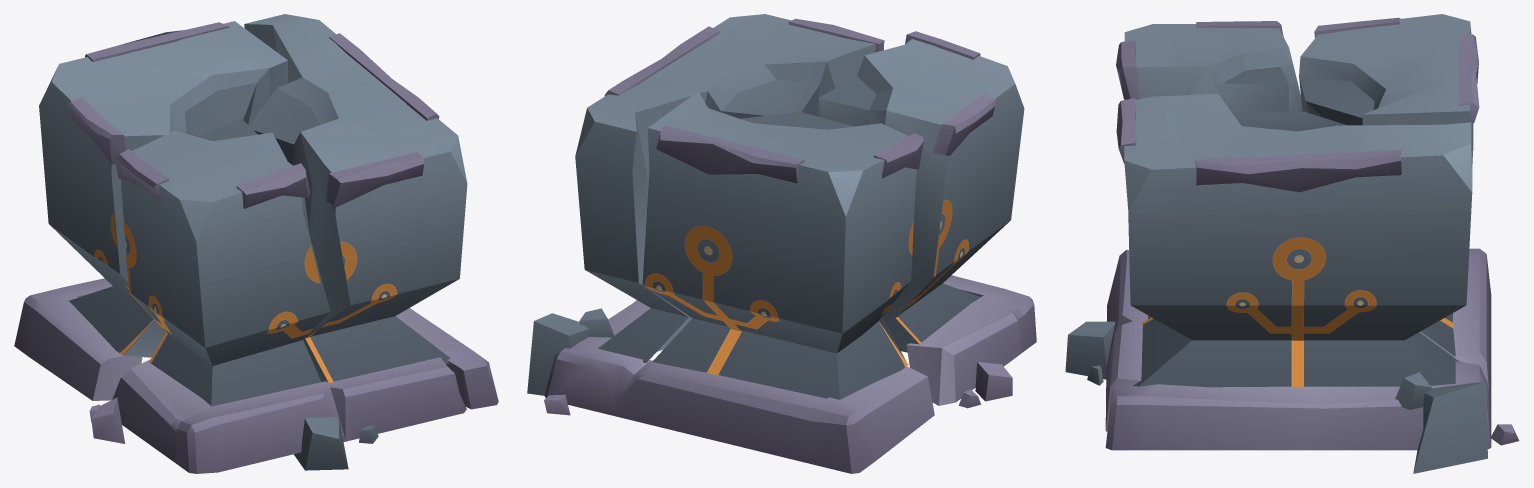
File: MODEL_TransmitterBlock_Broken.fbx
3 renders of one model, left to right at view 1: azimuth 30°, elevation 25°; view 2: azimuth 150°, elevation 25°; view 3: azimuth 270°, elevation 25°, orthographic. The views are drawn at different scales.
Visible parts, largest first — view 1: TransmitterBlock_Broken; view 2: TransmitterBlock_Broken; view 3: TransmitterBlock_Broken.
Boxes of the visible parts, bbox=[...] form: TransmitterBlock_Broken: bbox=[14, 14, 498, 473]; TransmitterBlock_Broken: bbox=[527, 14, 1036, 473]; TransmitterBlock_Broken: bbox=[1065, 14, 1519, 473].
Size of the model in its own units: 85.07 by 61.4 by 82.29.
